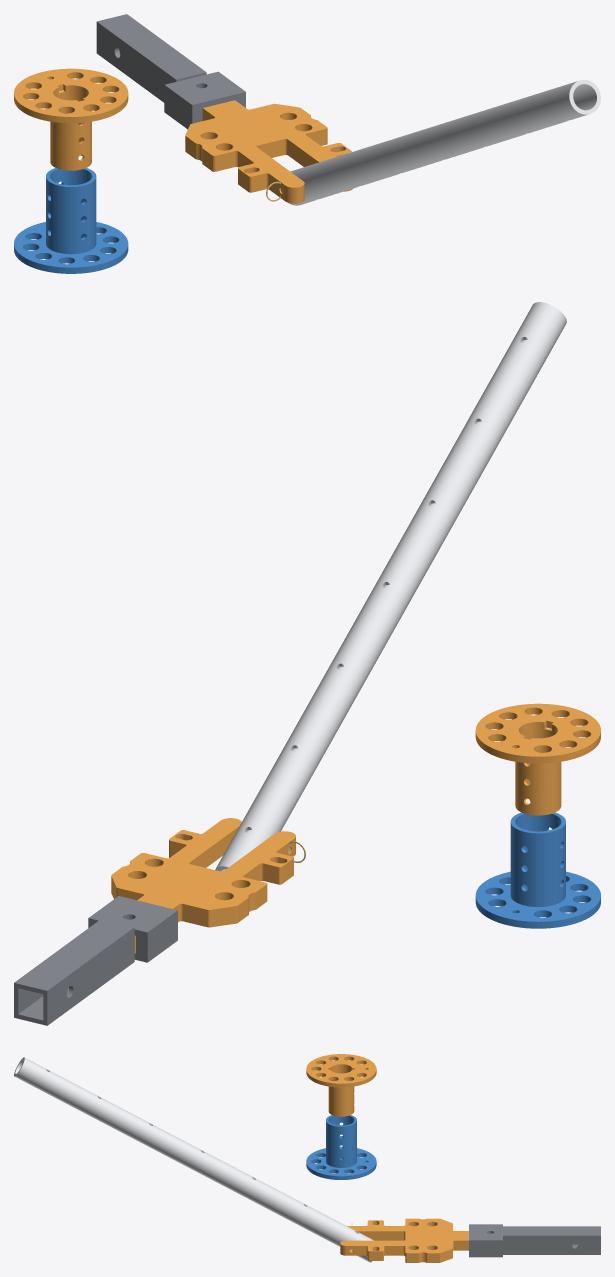
File: accesorios_v8.glb
The picture shows the model from 3 angles, top to bottom: view 1: azimuth 30°, elevation 25°; view 2: azimuth 150°, elevation 25°; view 3: azimuth 270°, elevation 25°; orthographic projection. The views are drawn at different scales.
Visible parts, largest first — view 1: a_13x, a_17, a_16, a_18, a_15; view 2: a_13x, a_17, a_18, a_16, a_15; view 3: a_13x, a_17, a_18, a_16, a_15.
Boxes of the visible parts, x1,y1,x2,y2 form: a_13x: (288,79,600,205); a_17: (185,100,352,203); a_16: (14,168,128,273); a_18: (96,14,245,129); a_15: (14,68,128,170); a_13x: (215,302,566,871); a_17: (111,818,295,952); a_18: (14,896,177,1025); a_16: (475,812,600,928); a_15: (475,703,600,815); a_13x: (14,1057,373,1262); a_17: (340,1218,468,1262); a_18: (469,1224,600,1257); a_16: (306,1115,376,1179); a_15: (306,1054,376,1116).
Size of the model in its own units: 598 by 527 by 1380.
